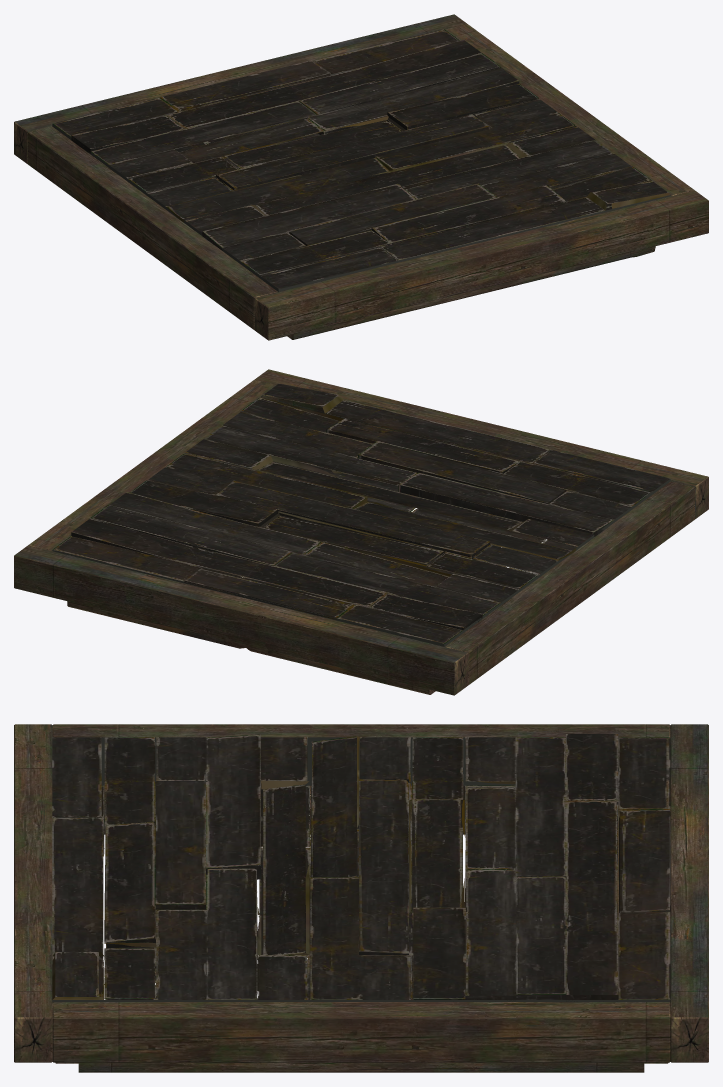
The picture shows the model from 3 angles, top to bottom: view 1: azimuth 30°, elevation 25°; view 2: azimuth 150°, elevation 25°; view 3: azimuth 270°, elevation 25°; orthographic projection. The views are drawn at different scales.
Visible parts, largest first — view 1: SM_BB_T1_Floor_Large_LOD0; view 2: SM_BB_T1_Floor_Large_LOD0; view 3: SM_BB_T1_Floor_Large_LOD0.
Part boxes in pixels (left/top/right/bottom): SM_BB_T1_Floor_Large_LOD0: left=14, top=14, right=708, bottom=340; SM_BB_T1_Floor_Large_LOD0: left=14, top=369, right=708, bottom=695; SM_BB_T1_Floor_Large_LOD0: left=14, top=724, right=708, bottom=1072.
Size of the model in its own units: 3.38 by 0.4319 by 3.38.
Materials: 2 (2 with a texture image).
